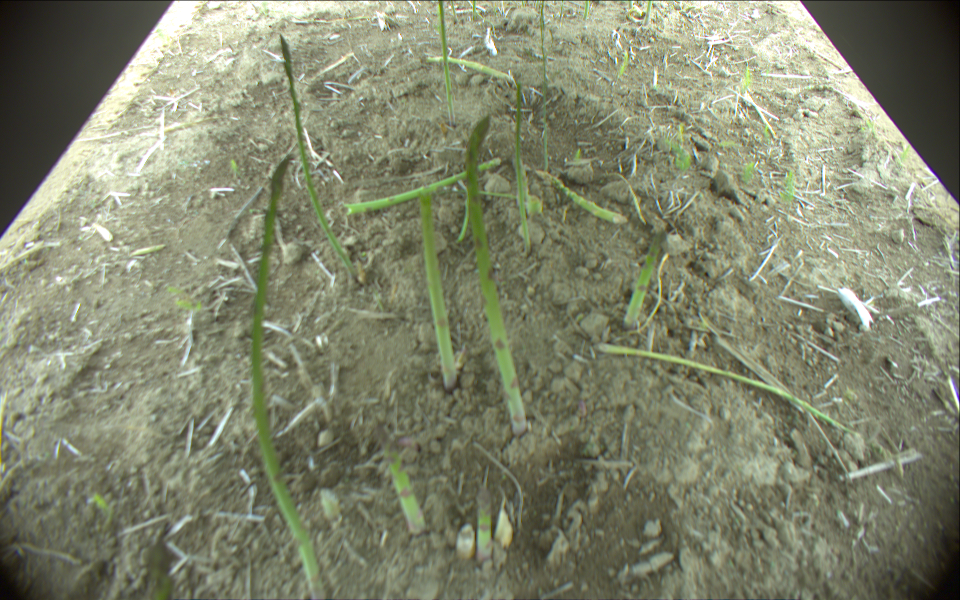aspa: (249, 156, 325, 600), (595, 342, 859, 439), (279, 36, 355, 280), (342, 155, 501, 217), (374, 421, 427, 534), (533, 171, 626, 225), (624, 232, 670, 330), (514, 81, 532, 254), (436, 1, 458, 127), (426, 55, 517, 85), (536, 1, 551, 176), (473, 489, 496, 567), (644, 1, 653, 24), (449, 1, 458, 21), (471, 1, 478, 21), (583, 1, 590, 19)
